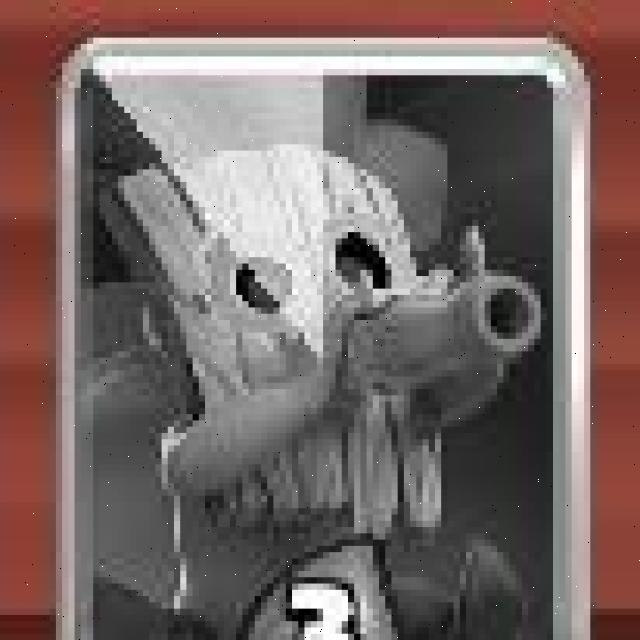Dart_Goblin: (48, 32, 590, 637)
